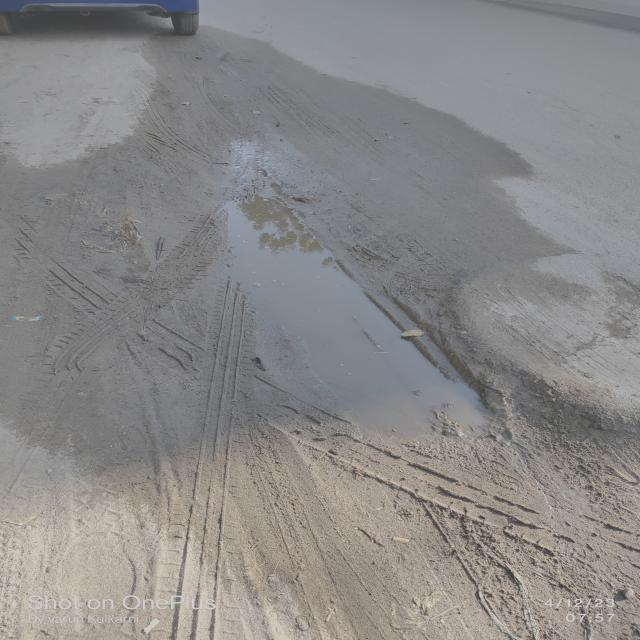Puddle pothole: (180, 162, 523, 458)
